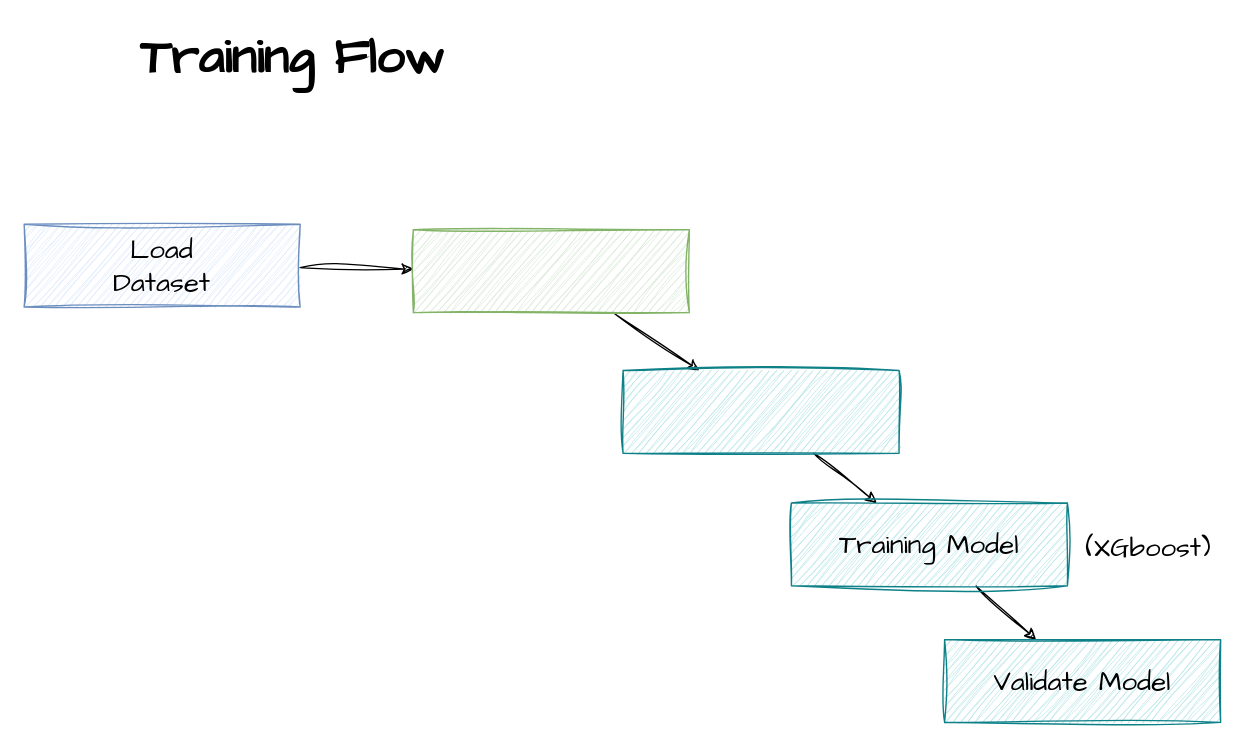
Some shapes in this 1245 by 747 pixel diagram are drawn without their labels. Here are the shapes that lost their labels. From the top down, the centre of each, then its label:
pixel 550 270: Procesing dataset
pixel 760 411: Split dataset into training & test
